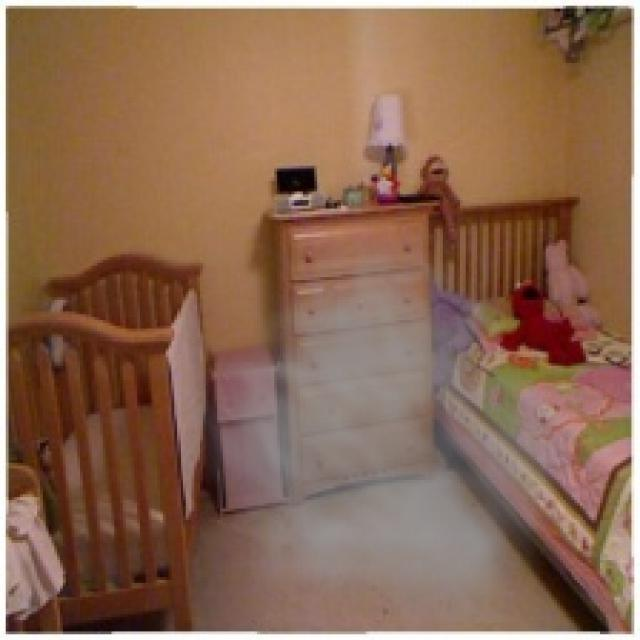Smoke: (175, 206, 600, 623)
